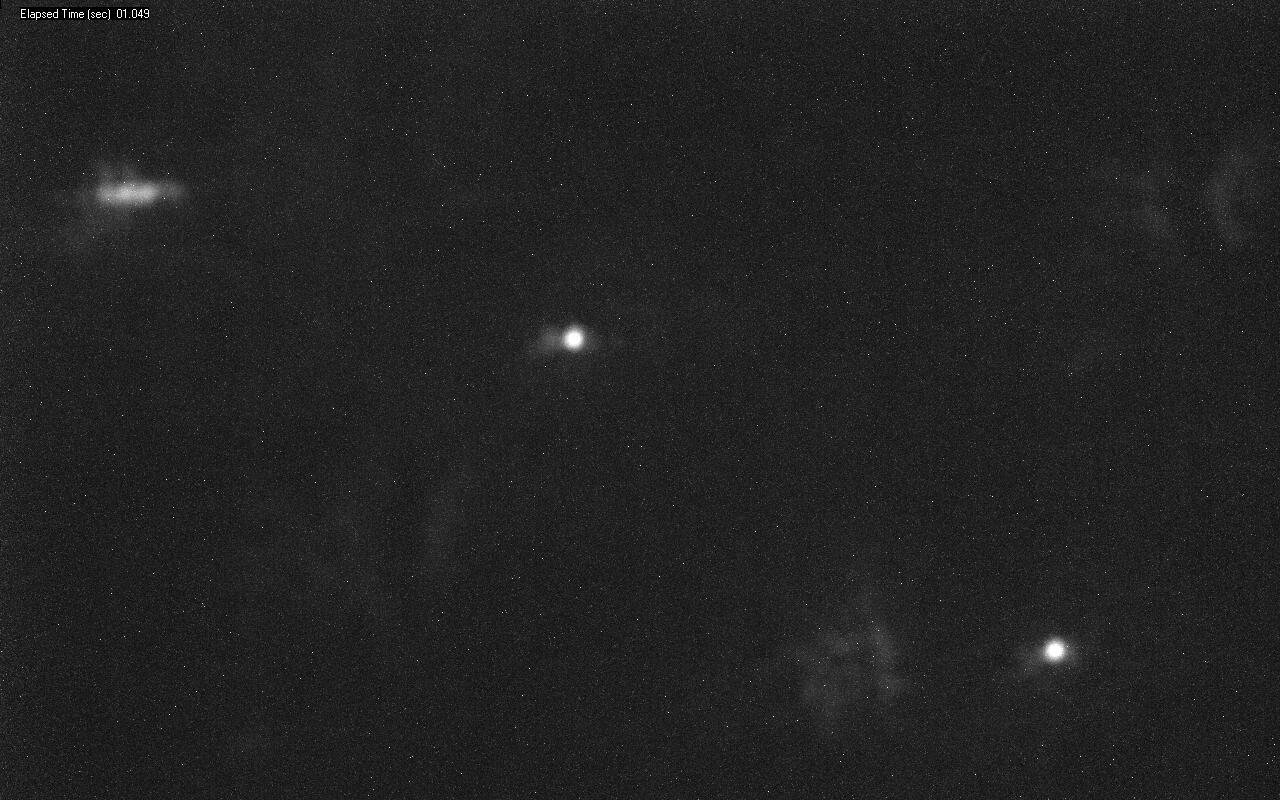Bead: (563, 329, 583, 349), (1046, 640, 1065, 661)
